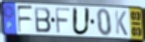0: (94, 8, 113, 38)
B: (34, 7, 52, 34)
F: (16, 5, 34, 34), (54, 7, 72, 35)
K: (114, 10, 129, 37)
U: (72, 6, 92, 36)
